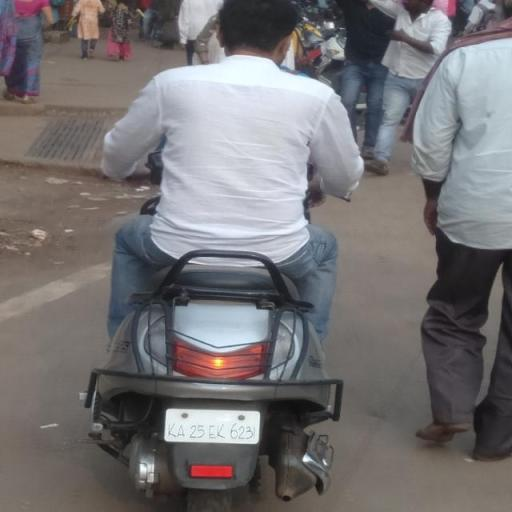bike: (77, 0, 378, 512)
numberplate: (162, 408, 261, 448)
withouthelmet: (219, 0, 294, 54)
